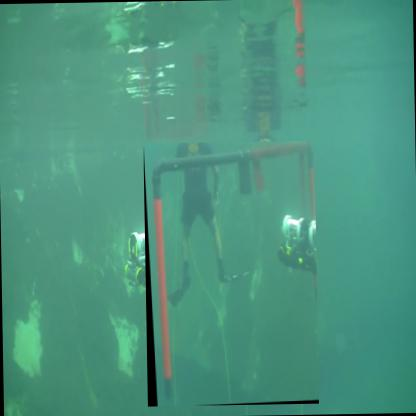gate: (144, 142, 321, 409)
